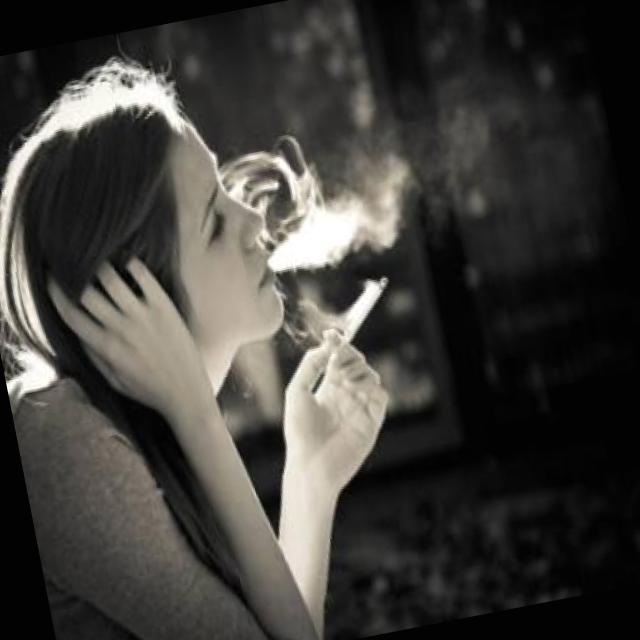smoke: (294, 250, 412, 376)
